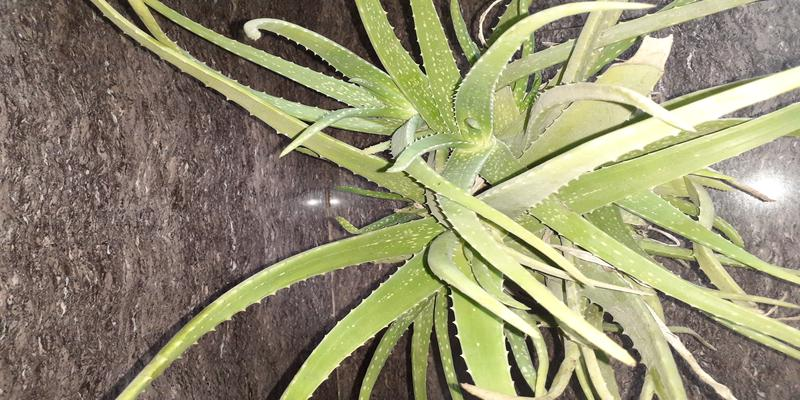Aloevera: (304, 44, 733, 373)
